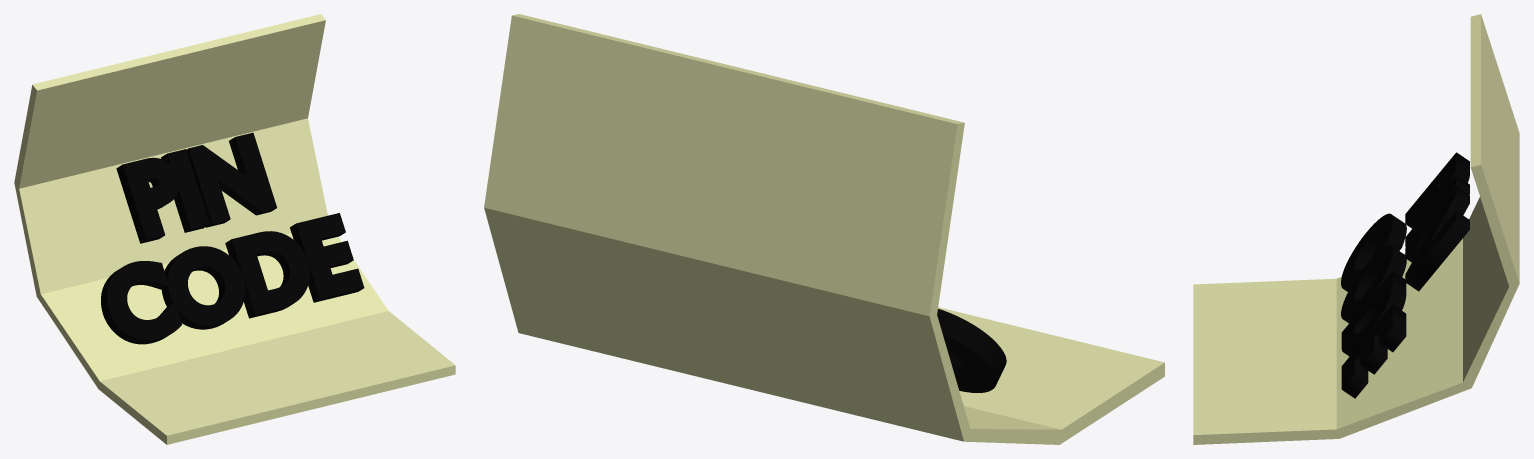
Rendered from Pin Code.fbx.
The picture shows the model from 3 angles, left to right: view 1: azimuth 30°, elevation 25°; view 2: azimuth 150°, elevation 25°; view 3: azimuth 270°, elevation 25°; orthographic projection. The views are drawn at different scales.
Visible parts, largest first — view 1: Cube, Text; view 2: Cube, Text; view 3: Cube, Text.
Part boxes in pixels (box(x1,y1,x2,y2)): Cube: box(14, 14, 455, 444); Text: box(101, 132, 364, 344); Cube: box(484, 14, 1164, 444); Text: box(937, 308, 1006, 392); Cube: box(1193, 14, 1519, 444); Text: box(1341, 152, 1469, 398).
Size of the model in its own units: 335 by 291 by 307.
